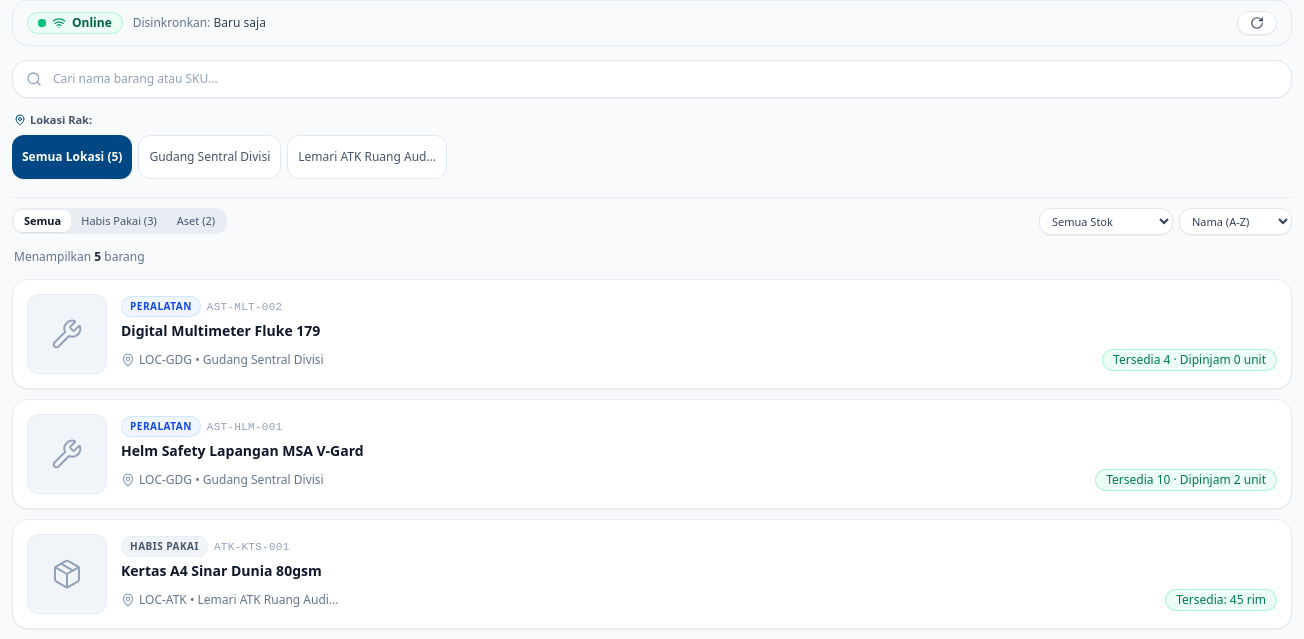
Test: Catalog Feature Full Integration Test (Task P2.9) › filters items reactively by search query (name and SKU) and clears search
expect the heading "Kertas A4 Sinar Dunia 80gsm" is shown: met, box [121,561,322,580]
Cari berdasarkan nama
In the search field with test id "catalog-search-input": (652, 79) [12,60,1292,98], type "Spidol"
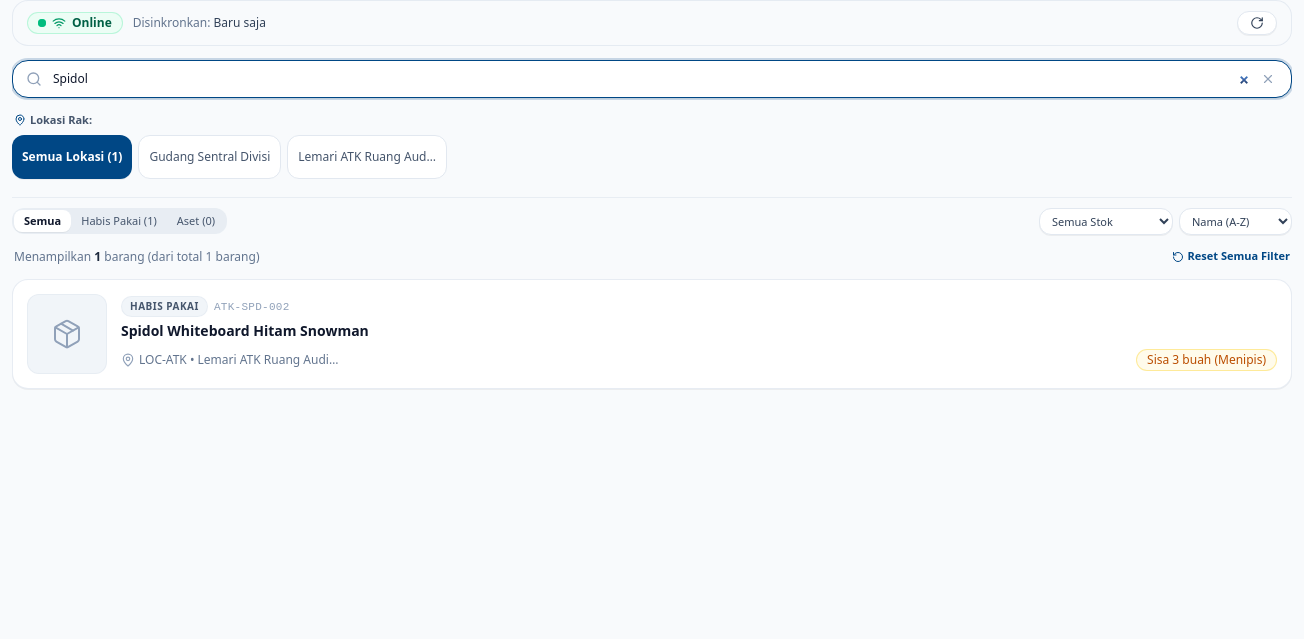
expect the heading "Spidol Whiteboard Hitam Snowman" is shown: met, box [121,321,369,340]
expect the button "Kertas A4 Sinar Dunia 80gsm" is gone: met
Click the button named "bersihkan pencarian": (1268, 79) [1256,67,1280,91]
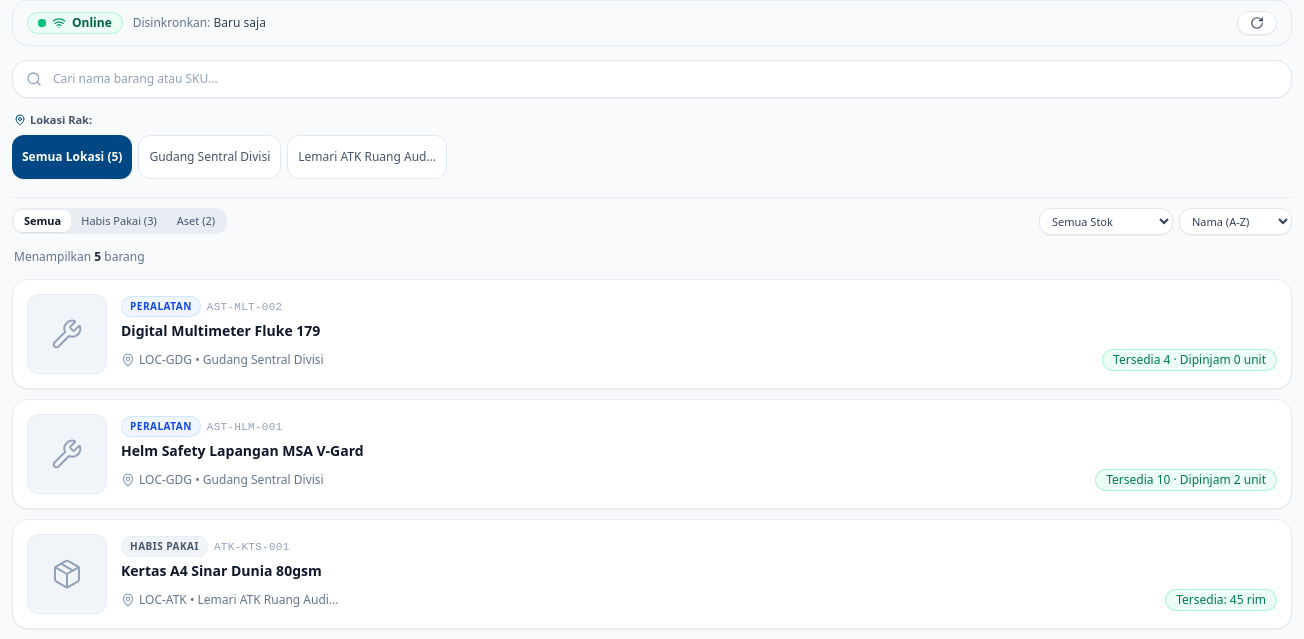
expect the heading "Kertas A4 Sinar Dunia 80gsm" is shown: met, box [121,561,322,580]
expect the heading "Helm Safety Lapangan MSA V-Gard" is shown: met, box [121,441,364,460]
Cari berdasarkan SKU
In the search field with test id "catalog-search-input": (652, 79) [12,60,1292,98], type "AST-HLM"
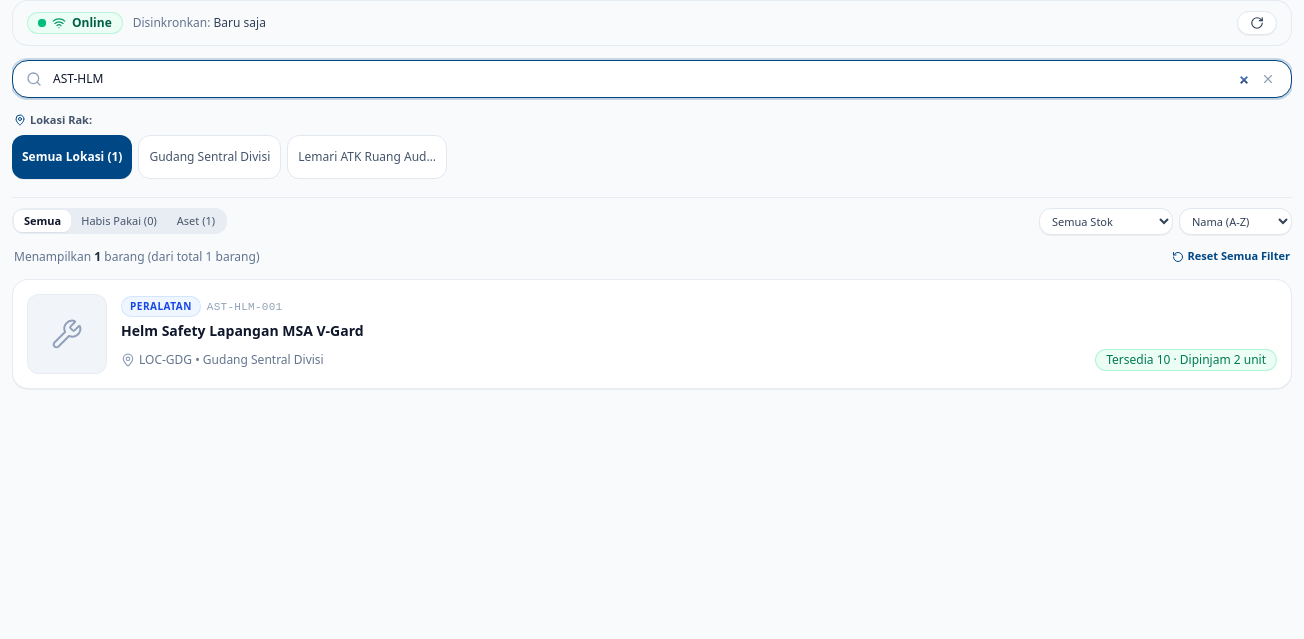
expect the heading "Helm Safety Lapangan MSA V-Gard" is shown: met, box [121,321,364,340]
expect the button "Digital Multimeter Fluke 179" is gone: met
